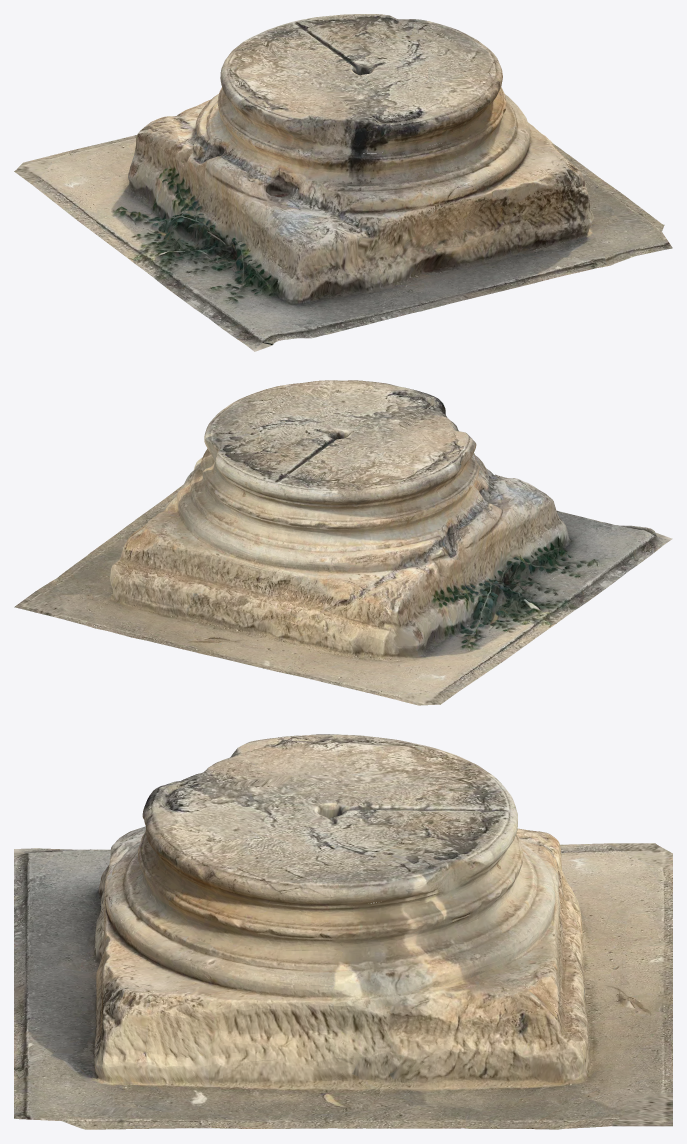
The model's file is class-sample-scan-roman-column-base.glb.
3 renders of one model, top to bottom at view 1: azimuth 30°, elevation 25°; view 2: azimuth 150°, elevation 25°; view 3: azimuth 270°, elevation 25°, orthographic. The views are drawn at different scales.
Visible parts, largest first — view 1: Object_2; view 2: Object_2; view 3: Object_2.
Part boxes in pixels (x1,y1,x2,y2): Object_2: (14,14,672,351); Object_2: (14,380,672,705); Object_2: (14,734,672,1129).
Size of the model in its own units: 1.86 by 0.5795 by 1.84.
Materials: 1 (1 with a texture image).
